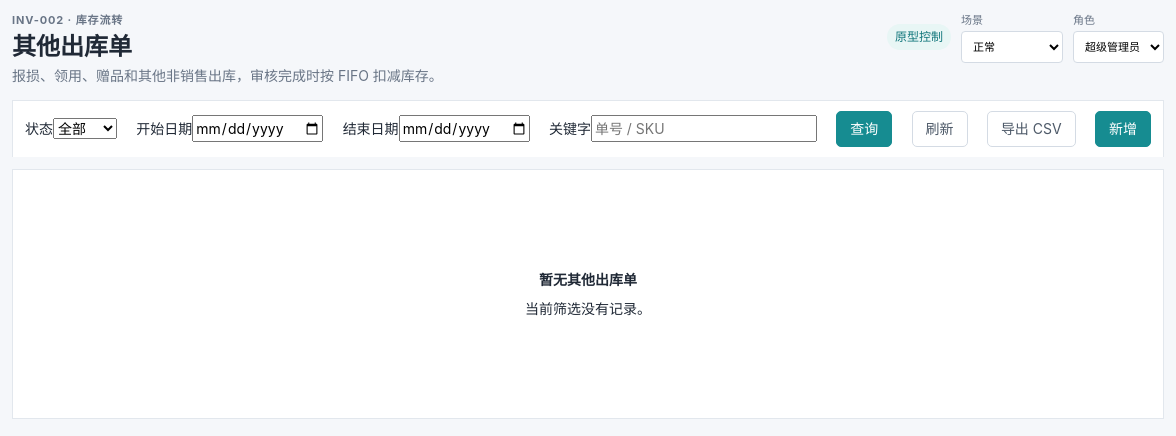
Scenario: INV-002 movement views › hides write and export commands for the read-only supervisor
Select "销售主管" in the dropdown labelled "角色" at (1118, 46), box [1073, 30, 1164, 62]
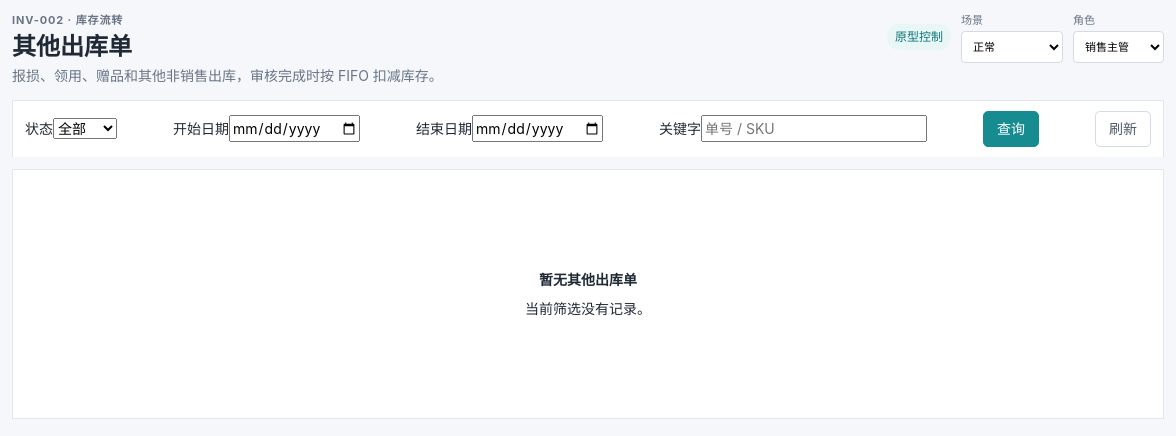
Check: the text "导出 CSV" is gone
Check: the text "新增" is gone
